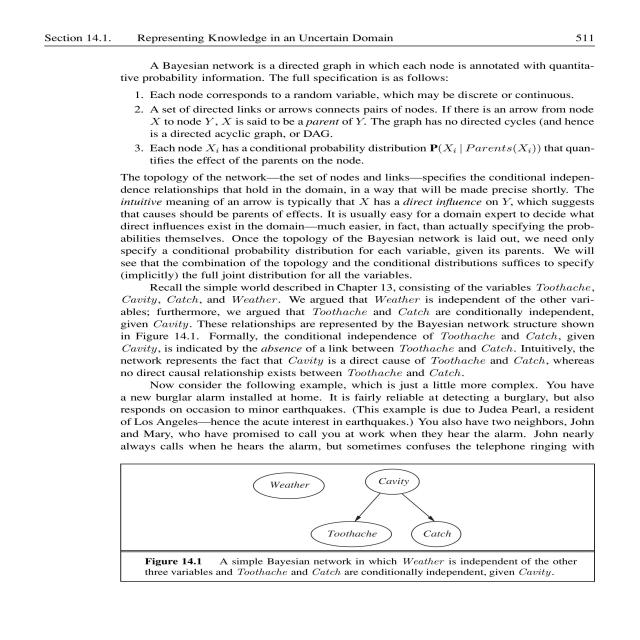diagram: (104, 454, 632, 620)
